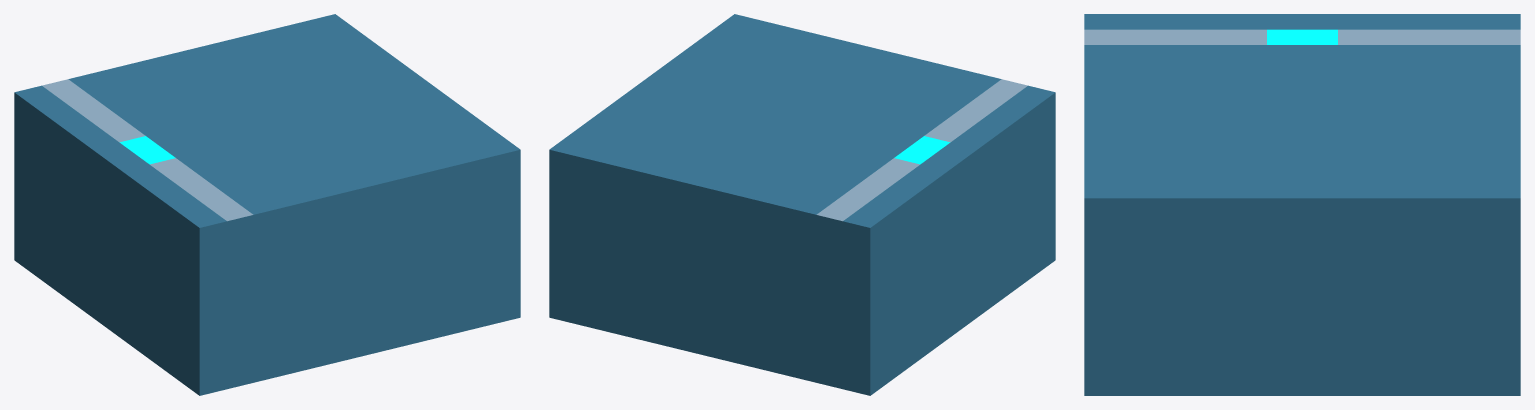
File: model_tile_border_middle.fbx
3 renders of one model, left to right at view 1: azimuth 30°, elevation 25°; view 2: azimuth 150°, elevation 25°; view 3: azimuth 270°, elevation 25°, orthographic. The views are drawn at different scales.
Parts seen in each view (by area): view 1: tile_border_middle; view 2: tile_border_middle; view 3: tile_border_middle.
Part boxes in pixels (box(x1,y1,x2,y2)): tile_border_middle: box(14, 14, 520, 395); tile_border_middle: box(549, 14, 1055, 395); tile_border_middle: box(1084, 14, 1520, 395).
Bounding box in the file's own units: 60.96 × 30.48 × 60.96.
